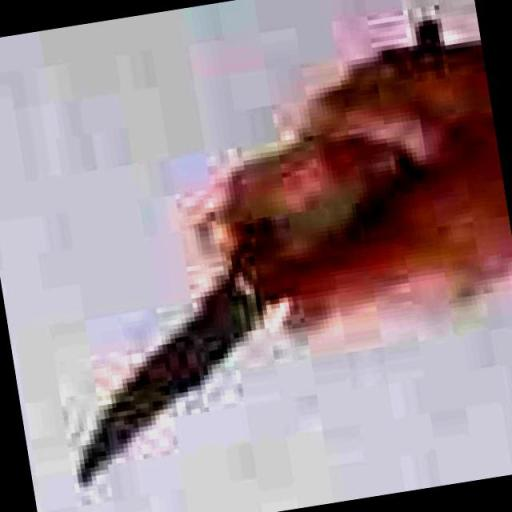knife: (0, 73, 472, 504)
